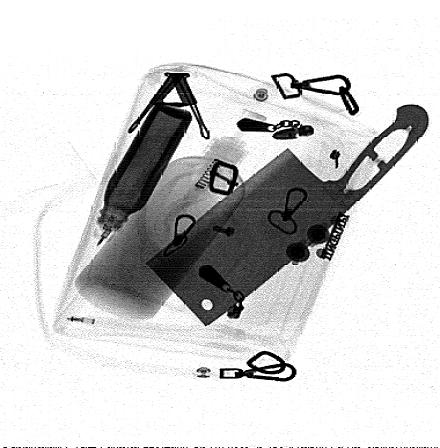Knife: (144, 103, 429, 328)
